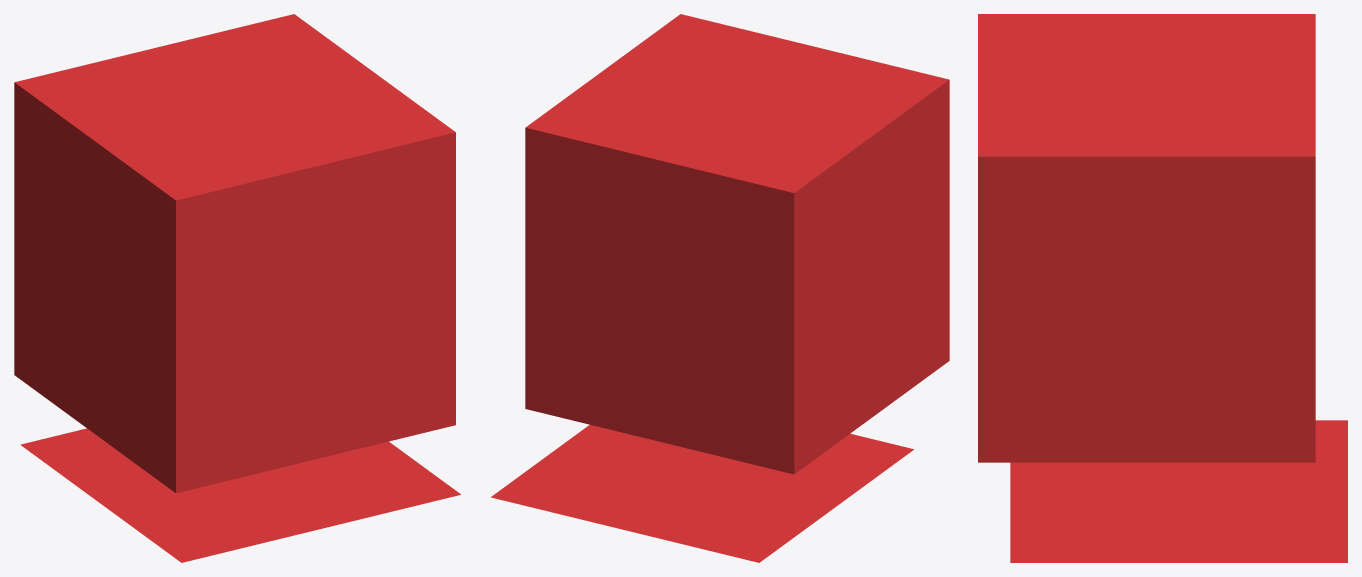
Rendered from level.glb.
3 renders of one model, left to right at view 1: azimuth 30°, elevation 25°; view 2: azimuth 150°, elevation 25°; view 3: azimuth 270°, elevation 25°, orthographic. The views are drawn at different scales.
Parts seen in each view (by area): view 1: Cube, Plane; view 2: Cube, Plane; view 3: Cube, Plane.
Part boxes in pixels (x1,y1,x2,y2): Cube: (14, 14, 455, 493); Plane: (20, 428, 460, 562); Cube: (525, 14, 949, 474); Plane: (491, 425, 913, 562); Cube: (978, 14, 1315, 462); Plane: (1010, 420, 1347, 562).
Size of the model in its own units: 2.15 by 2.59 by 2.19.
